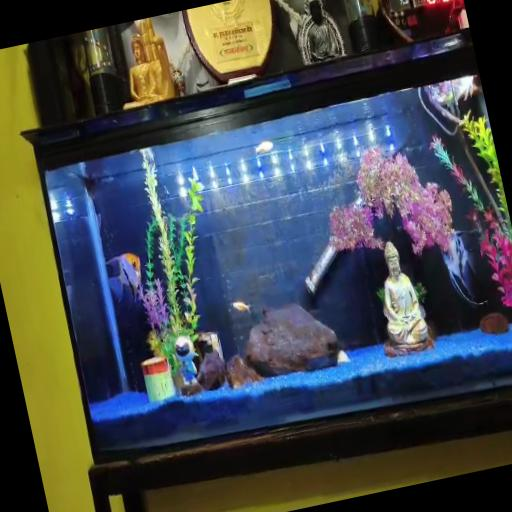Fish: (443, 230, 488, 306), (106, 252, 141, 302), (429, 76, 479, 105), (256, 141, 273, 154), (233, 301, 250, 312)
